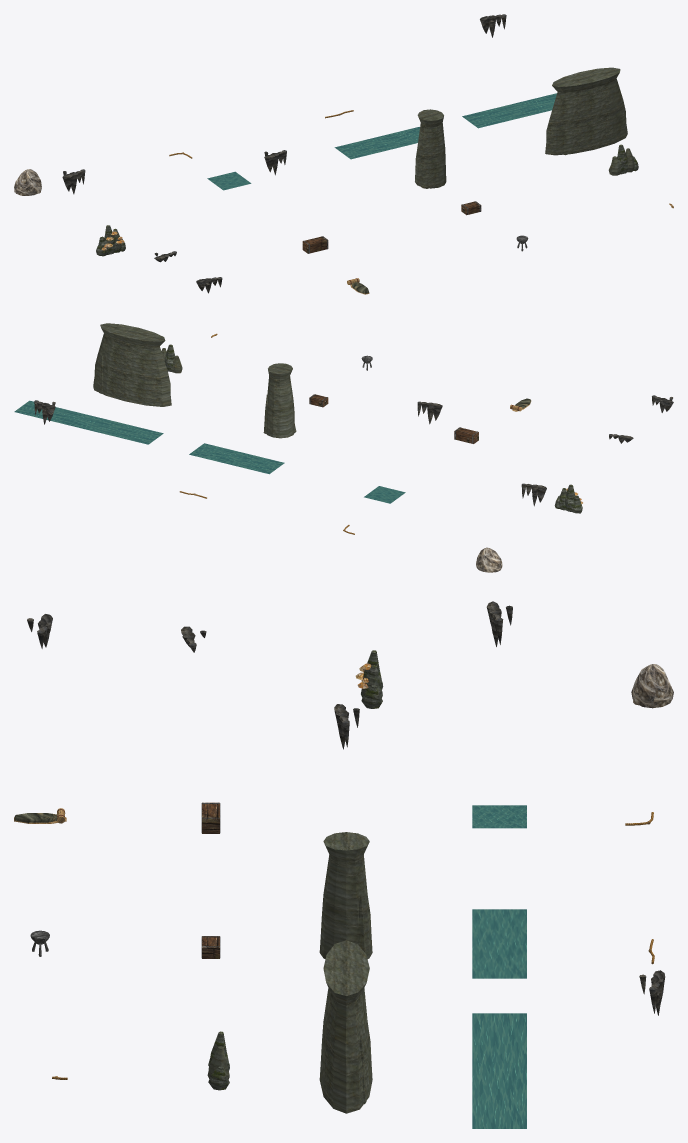
Rendered from damp-caves.glb.
3 views of the same model, one above another, from view 1: azimuth 30°, elevation 25°; view 2: azimuth 150°, elevation 25°; view 3: azimuth 270°, elevation 25° (orthographic). The views are drawn at different scales.
Parts seen in each view (by area): view 1: limestone-rib, high-column, pool-long, pool-inner, fungus-ledge, flowstone, sealed-clutch, pool-end; view 2: limestone-rib, high-column, pool-long, pool-inner, fungus-ledge, sealed-clutch, pool-end, flowstone; view 3: limestone-rib, pool-long, high-column, pool-inner, sealed-clutch, pool-end, fungus-ledge, flowstone.
Part boxes in pixels (bbox=[...]): limestone-rib: bbox=[545, 67, 627, 155]; high-column: bbox=[415, 109, 446, 188]; pool-long: bbox=[462, 93, 556, 128]; pool-inner: bbox=[334, 127, 419, 159]; fungus-ledge: bbox=[96, 225, 125, 256]; flowstone: bbox=[608, 144, 638, 175]; sealed-clutch: bbox=[14, 169, 41, 195]; pool-end: bbox=[207, 171, 251, 190]; limestone-rib: bbox=[93, 323, 171, 406]; high-column: bbox=[263, 363, 296, 438]; pool-long: bbox=[14, 400, 163, 444]; pool-inner: bbox=[189, 443, 284, 474]; fungus-ledge: bbox=[554, 484, 582, 513]; sealed-clutch: bbox=[476, 547, 502, 572]; pool-end: bbox=[364, 486, 405, 503]; flowstone: bbox=[161, 344, 182, 373]; limestone-rib: bbox=[319, 940, 372, 1113]; pool-long: bbox=[472, 1013, 526, 1128]; high-column: bbox=[319, 832, 372, 958]; pool-inner: bbox=[472, 909, 526, 978]; sealed-clutch: bbox=[631, 664, 673, 708]; pool-end: bbox=[472, 805, 526, 828]; fungus-ledge: bbox=[355, 650, 383, 708]; flowstone: bbox=[207, 1031, 229, 1090].
Size of the model in its own units: 19.5 by 2.25 by 12.07.
6 materials, 6 textured.
